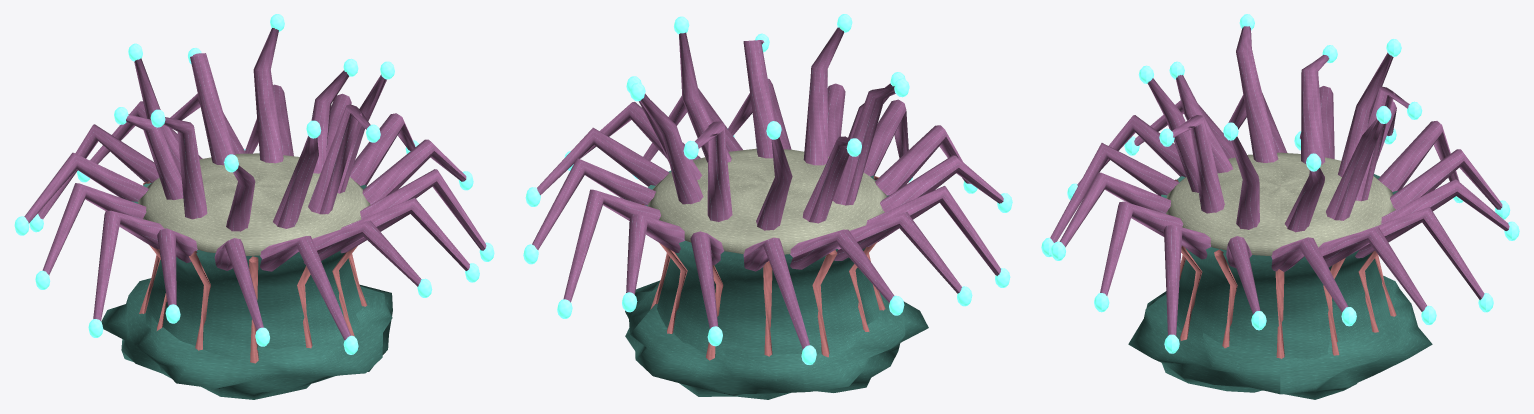
File: anemone.glb
The picture shows the model from 3 angles, left to right: view 1: azimuth 30°, elevation 25°; view 2: azimuth 150°, elevation 25°; view 3: azimuth 270°, elevation 25°; orthographic projection. The views are drawn at different scales.
Parts seen in each view (by area): view 1: anemone; view 2: anemone; view 3: anemone.
Boxes of the visible parts, box(x1,y1,x2,y2) form: anemone: box(14, 14, 494, 399); anemone: box(523, 14, 1012, 399); anemone: box(1041, 14, 1519, 399).
Size of the model in its own units: 3 by 2.01 by 2.98.
Materials: 1 (1 with a texture image).
